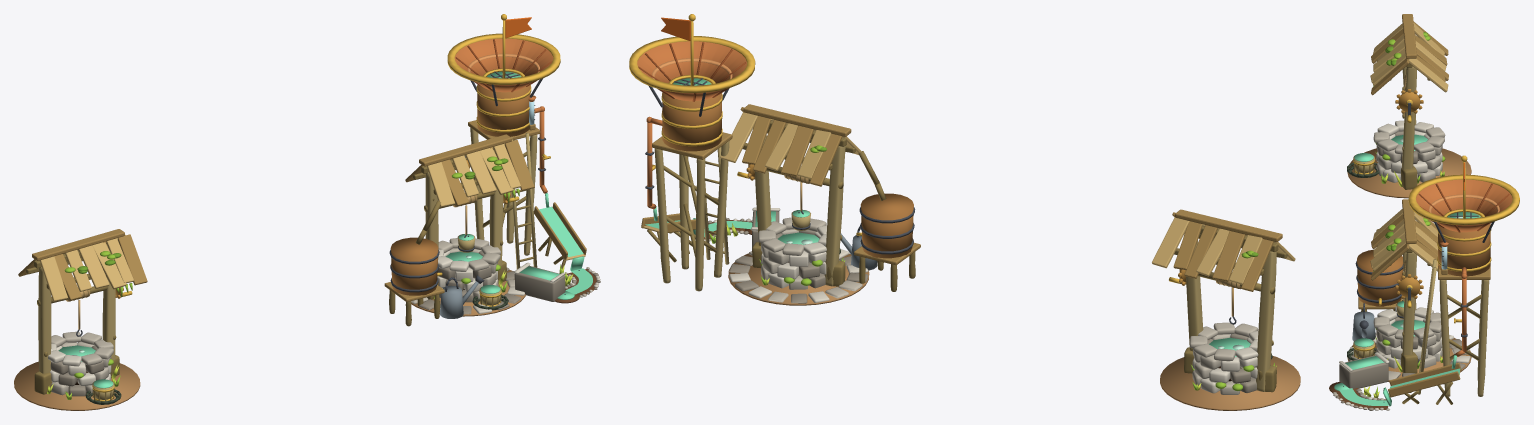
File: puits6.glb
The picture shows the model from 3 angles, left to right: view 1: azimuth 30°, elevation 25°; view 2: azimuth 150°, elevation 25°; view 3: azimuth 270°, elevation 25°; orthographic projection. The views are drawn at different scales.
Visible parts, largest first — view 1: cuve, planche_toit.001, planche_toit.003, poteau.002, entonnoir, terre_battue, pierre.005, poteau, rebord, planche_toit, planche_toit.002, eauCourante (+16 smaller); view 2: poteau.002, cuve, terre_battue, entonnoir, planche_toit, planche_toit.002, poteau, planche_toit.001, planche_toit.003, rebord, pierre.004, pierre.005 (+15 smaller); view 3: cuve, poteau.002, entonnoir, planche_toit.001, rebord, terre_battue, planche_toit.003, pierre.005, planche_toit, rigole.001, planche_toit.002, poteau (+33 smaller).
Boxes of the visible parts, left/top/right/bottom form: cuve: left=390, top=84, right=530, bottom=295; planche_toit.001: left=40, top=234, right=133, bottom=301; planche_toit.003: left=427, top=140, right=520, bottom=207; poteau.002: left=425, top=127, right=537, bottom=276; entonnoir: left=454, top=38, right=553, bottom=92; terre_battue: left=14, top=361, right=140, bottom=410; pierre.005: left=419, top=251, right=565, bottom=314; poteau: left=38, top=267, right=115, bottom=373; rebord: left=447, top=33, right=560, bottom=84; planche_toit: left=18, top=234, right=147, bottom=300; planche_toit.002: left=405, top=140, right=534, bottom=206; eauCourante: left=539, top=206, right=592, bottom=294; poteau.002: left=654, top=128, right=845, bottom=291; cuve: left=662, top=92, right=913, bottom=258; terre_battue: left=1160, top=355, right=1300, bottom=410; entonnoir: left=637, top=41, right=746, bottom=101; planche_toit: left=1172, top=212, right=1279, bottom=291; planche_toit.002: left=740, top=107, right=847, bottom=186; poteau: left=1184, top=233, right=1276, bottom=391; planche_toit.001: left=1152, top=217, right=1295, bottom=284; planche_toit.003: left=720, top=111, right=861, bottom=179; rebord: left=629, top=36, right=755, bottom=93; pierre.004: left=729, top=207, right=868, bottom=302; pierre.005: left=729, top=211, right=868, bottom=303; cuve: left=1357, top=223, right=1490, bottom=306; poteau.002: left=1402, top=252, right=1489, bottom=396; entonnoir: left=1416, top=179, right=1512, bottom=232; planche_toit.001: left=1370, top=23, right=1448, bottom=92; rebord: left=1408, top=174, right=1519, bottom=225; terre_battue: left=1347, top=148, right=1471, bottom=198; planche_toit.003: left=1370, top=209, right=1437, bottom=271; pierre.005: left=1339, top=317, right=1465, bottom=388; planche_toit: left=1371, top=21, right=1448, bottom=95; rigole.001: left=1388, top=362, right=1461, bottom=397; planche_toit.002: left=1371, top=214, right=1437, bottom=280; poteau: left=1402, top=66, right=1416, bottom=184.
Bounding box in the file's own units: 8.66 × 3.55 × 2.61.
